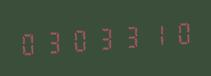one: (142, 17, 166, 51)
three: (92, 20, 116, 55), (42, 24, 66, 58), (117, 19, 141, 53)
zero: (17, 26, 41, 60), (67, 22, 91, 56), (167, 15, 191, 49)
